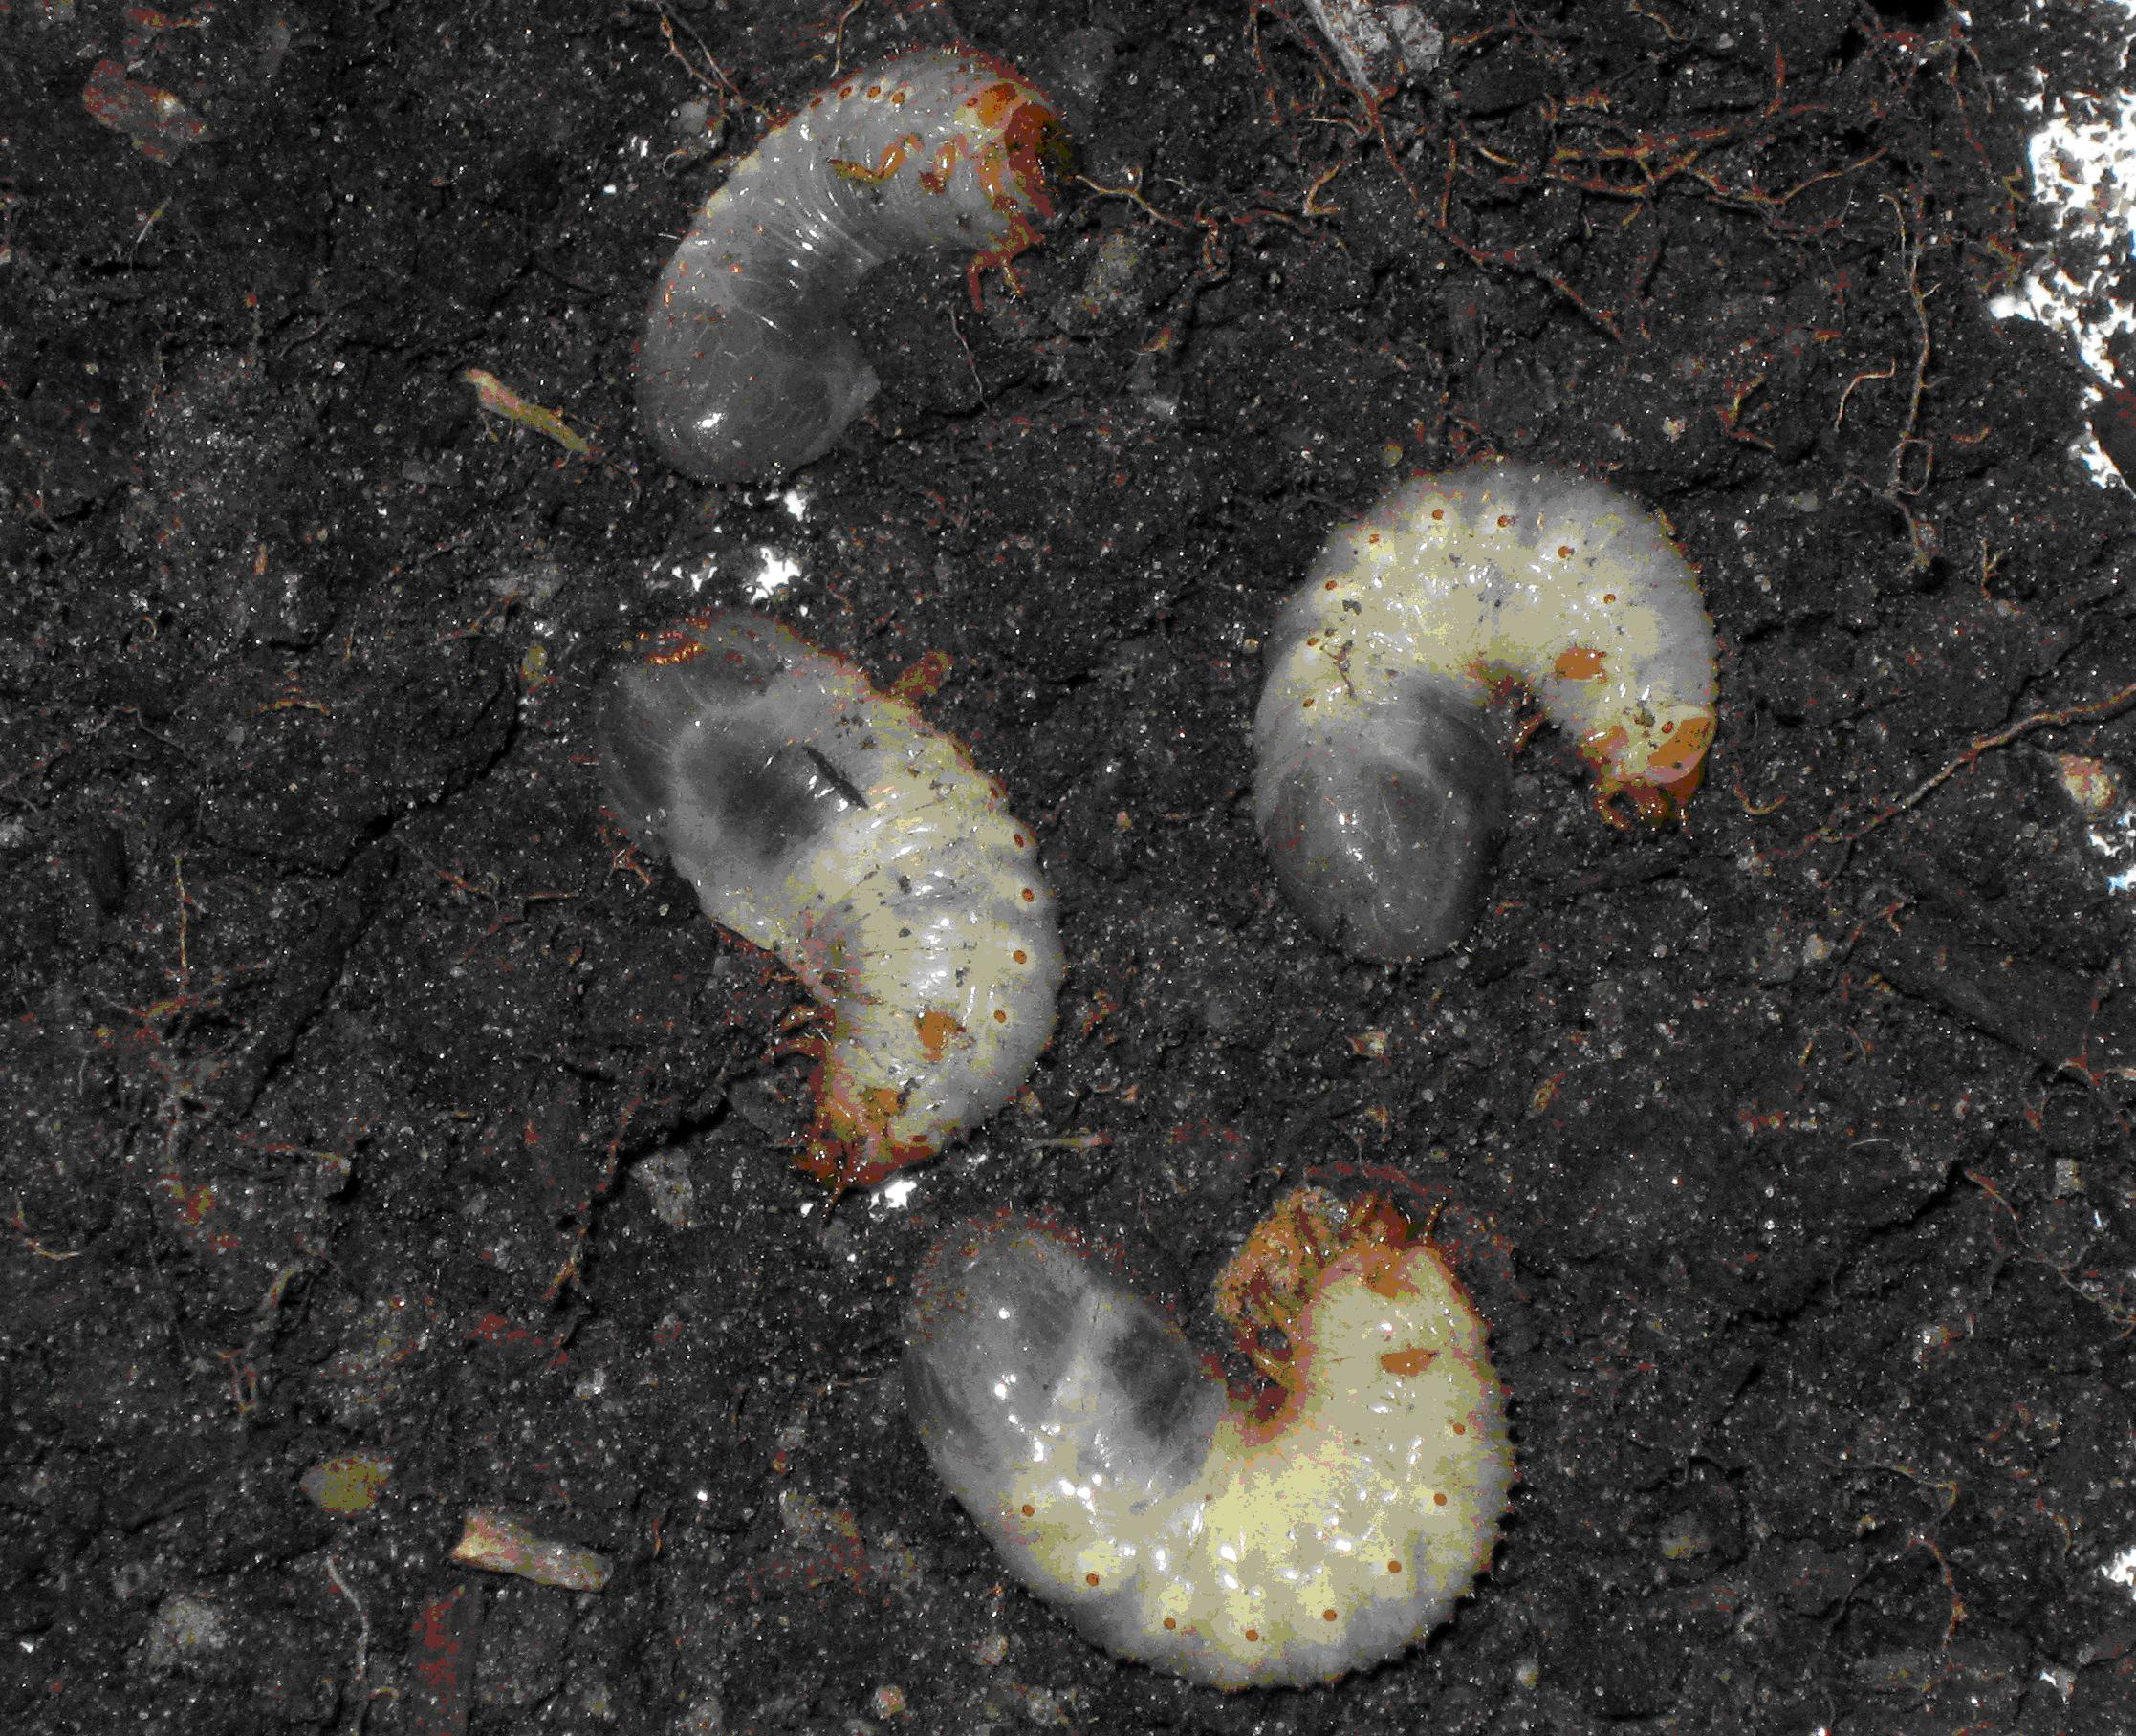grub: (884, 1205, 1539, 1663)
